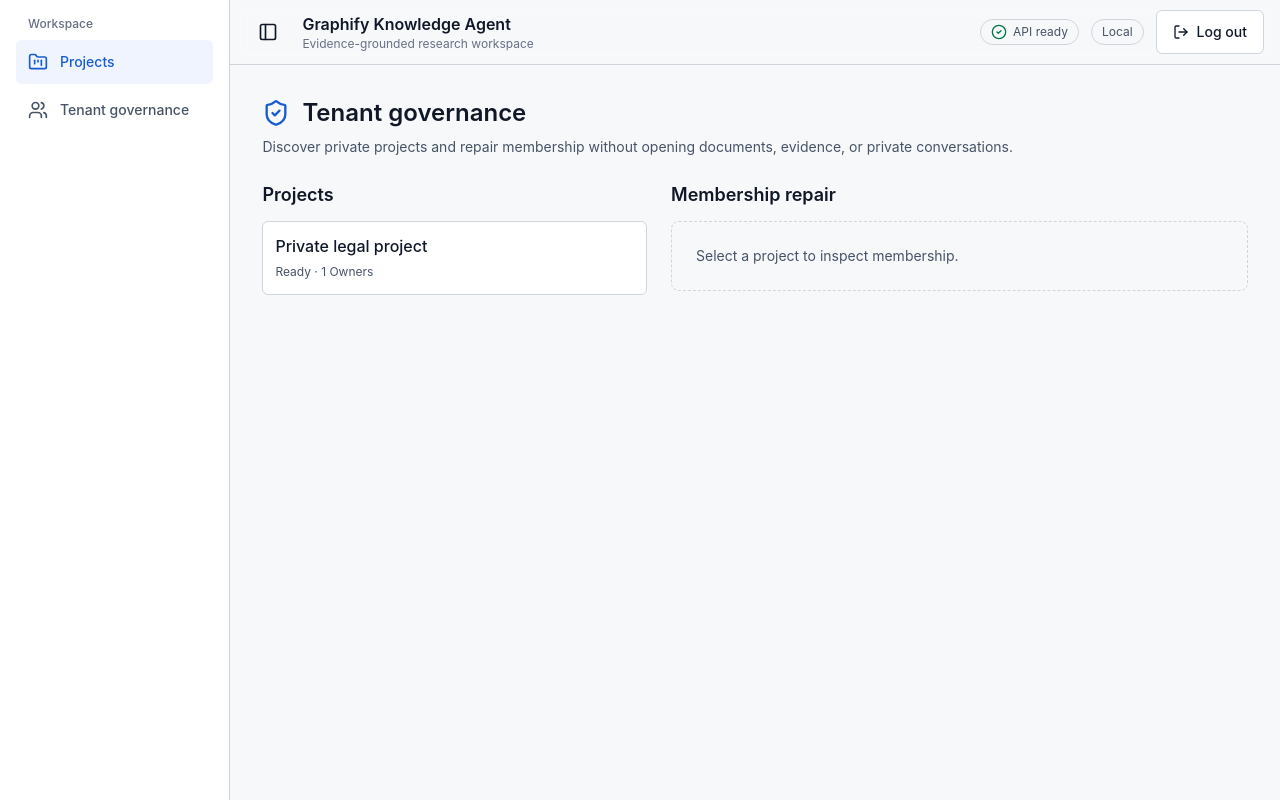
it: TenantGovernanceWorkspace › discovers private projects and opens membership without project content
This screenshot has width=1280, height=800.
Expected: the heading "Tenant governance" is shown, [302,97,526,129]
Click the button "Private legal project ready · 1 Owners": click(351, 246) [262,221,647,295]
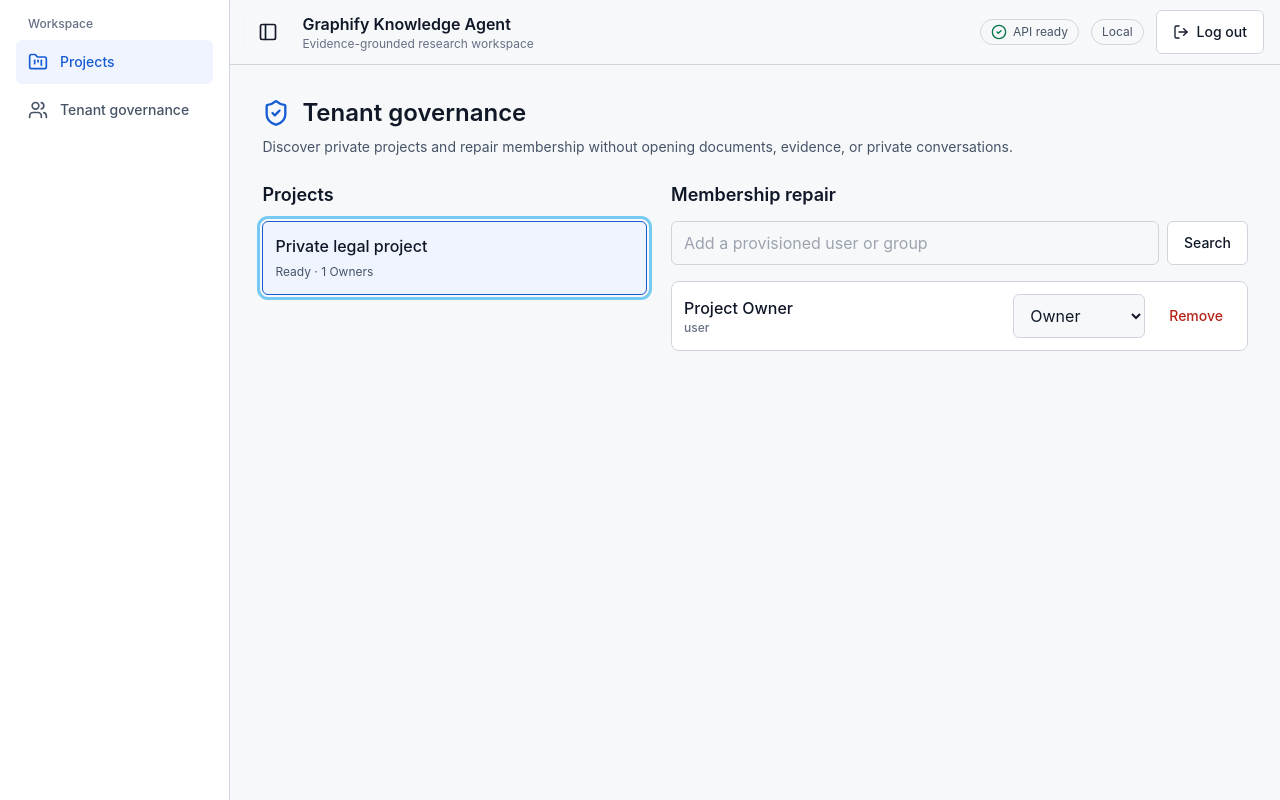
Expected: the text "Project Owner" is shown, [684,298,793,318]
